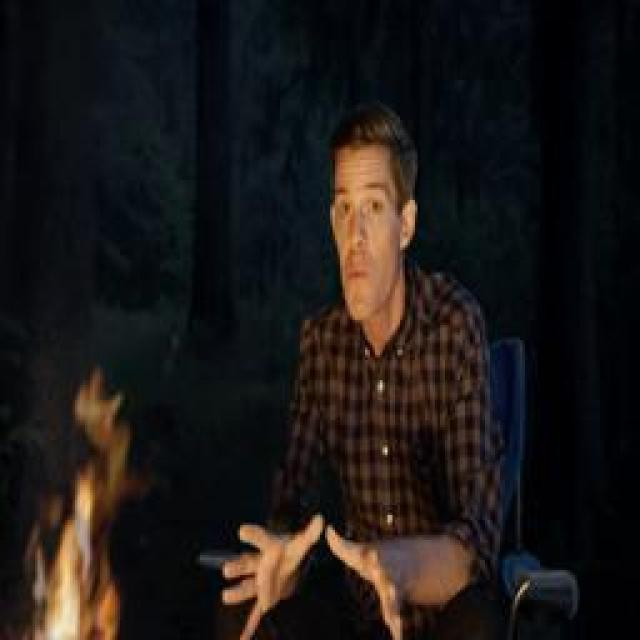Fire: (27, 372, 135, 640)
